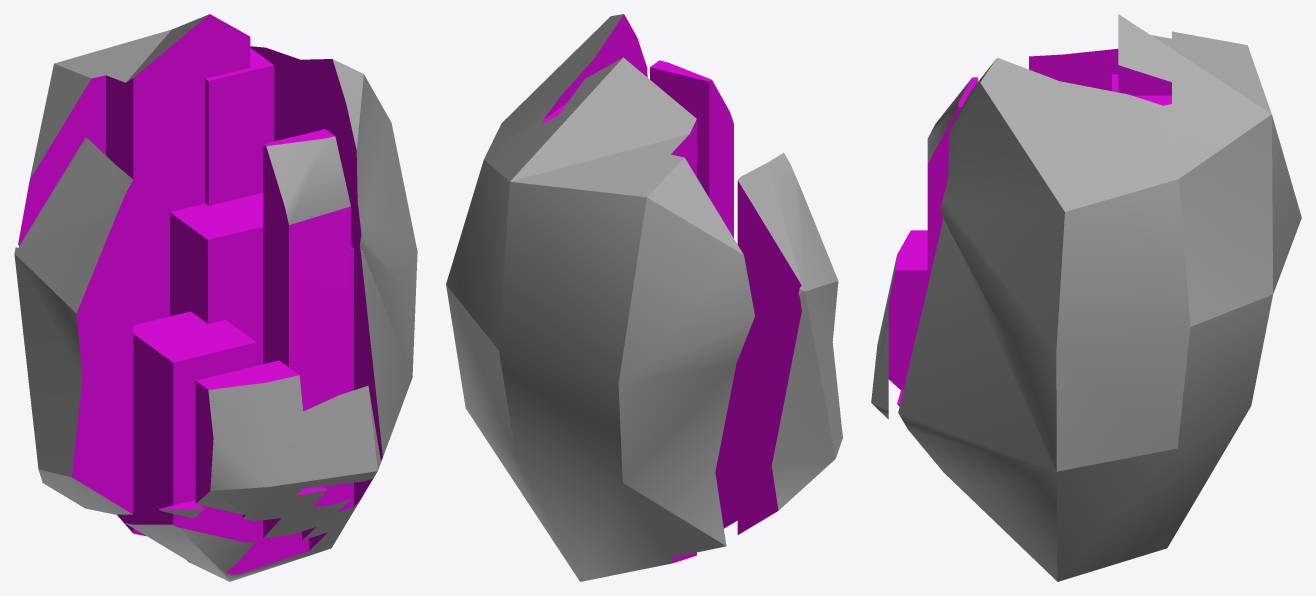
Rendered from Boulder_1_Glitch.fbx.
3 renders of one model, left to right at view 1: azimuth 30°, elevation 25°; view 2: azimuth 150°, elevation 25°; view 3: azimuth 270°, elevation 25°, orthographic. The views are drawn at different scales.
Parts seen in each view (by area): view 1: Boulder_1_Glitch; view 2: Boulder_1_Glitch; view 3: Boulder_1_Glitch.
Boxes of the visible parts, box(x1,y1,x2,y2) form: Boulder_1_Glitch: box(14, 14, 417, 581); Boulder_1_Glitch: box(446, 14, 842, 581); Boulder_1_Glitch: box(871, 14, 1301, 581).
Bounding box in the file's own units: 6.97 × 9.7 × 7.11.
